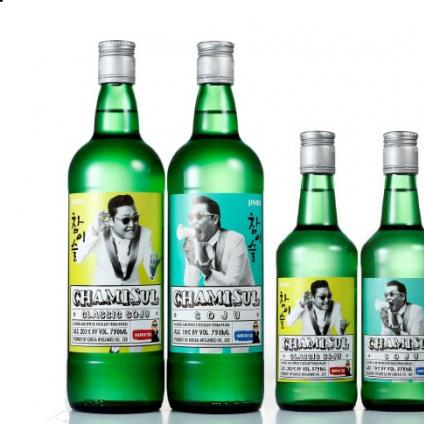soju: (65, 33, 266, 415), (273, 129, 424, 414)
